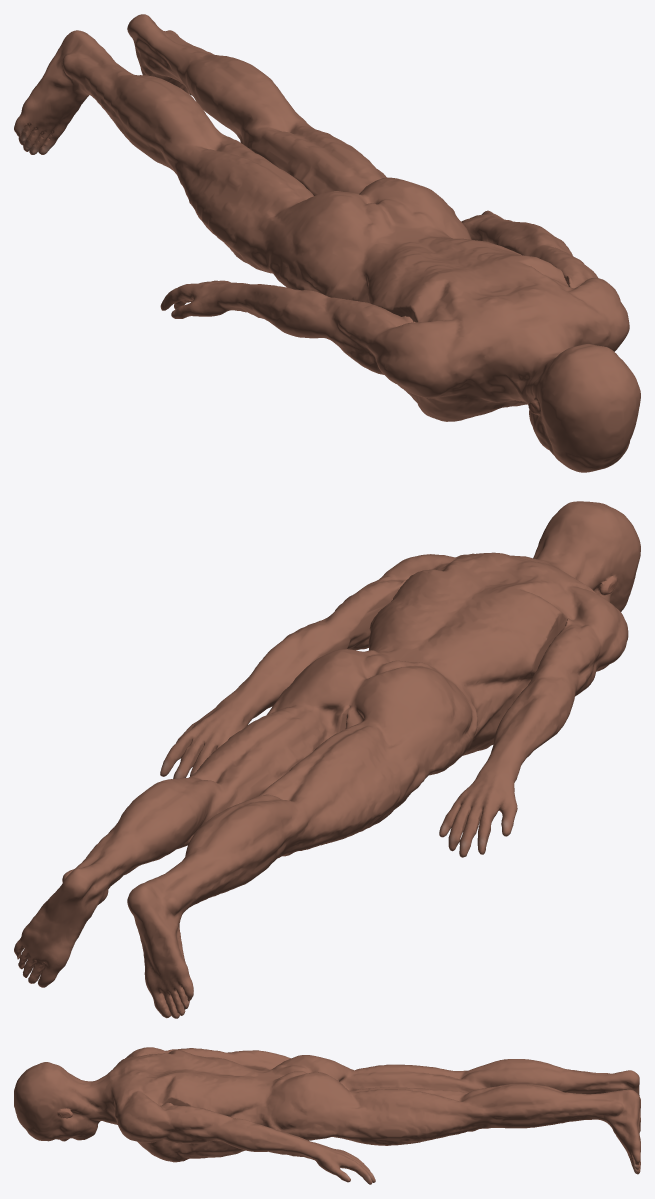
The model's file is skin.glb.
The picture shows the model from 3 angles, top to bottom: view 1: azimuth 30°, elevation 25°; view 2: azimuth 150°, elevation 25°; view 3: azimuth 270°, elevation 25°; orthographic projection. The views are drawn at different scales.
Visible parts, largest first — view 1: FittedSkin; view 2: FittedSkin; view 3: FittedSkin.
Part boxes in pixels (x1,y1,x2,y2): FittedSkin: (14, 14, 640, 472); FittedSkin: (14, 501, 640, 1018); FittedSkin: (14, 1047, 640, 1184).
Size of the model in its own units: 655 by 270 by 1719.
